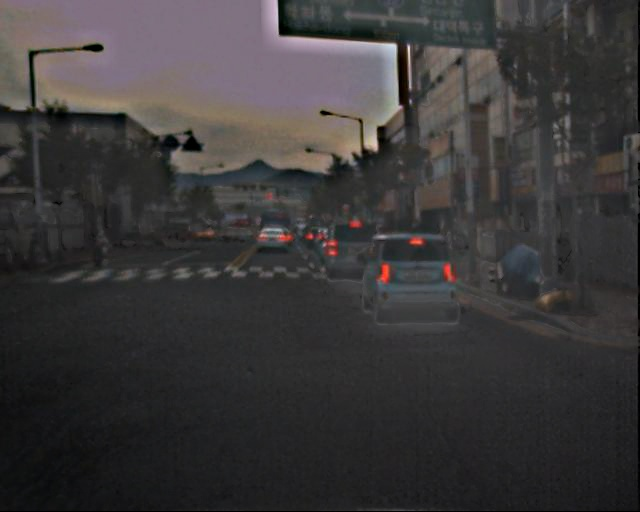person: (87, 226, 109, 271)
